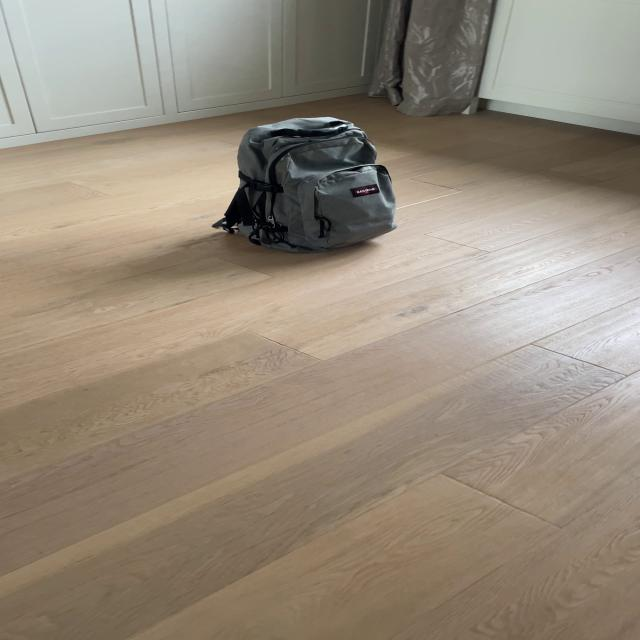backpack: (212, 108, 404, 260)
